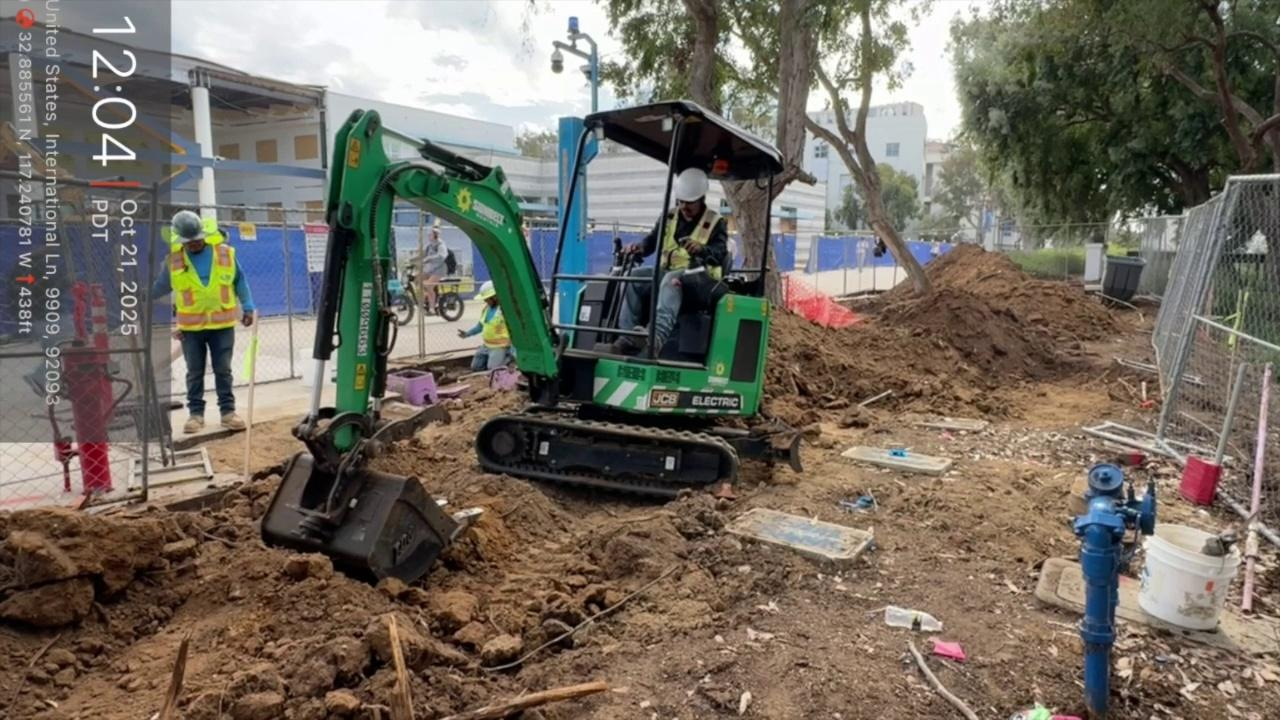Exacavator: (259, 97, 804, 585)
